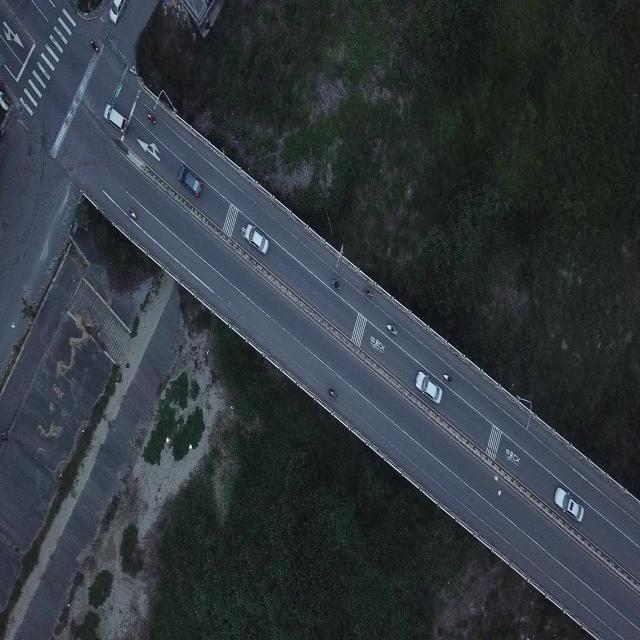bike: (326, 383, 341, 402), (328, 273, 341, 294), (126, 203, 138, 221), (442, 369, 453, 385), (146, 110, 156, 126), (363, 286, 373, 301), (90, 36, 99, 52), (387, 322, 398, 334)
car: (553, 485, 584, 523), (414, 370, 442, 404), (103, 100, 128, 135), (244, 223, 269, 256), (179, 163, 202, 197)
